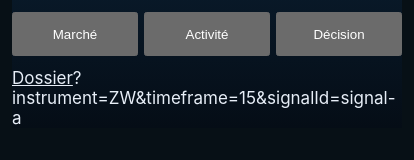
Test: Navigation and read-only signal controls › switches the Live mobile task without losing instrument or signal
Click the button "Activité".
click(207, 34)  # box [144,12,270,56]
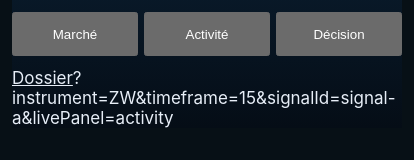
Check: the text "instrument=ZW&timeframe=15&signalId=signal-a&livePanel=activity" is shown, box [12,68,396,128]
